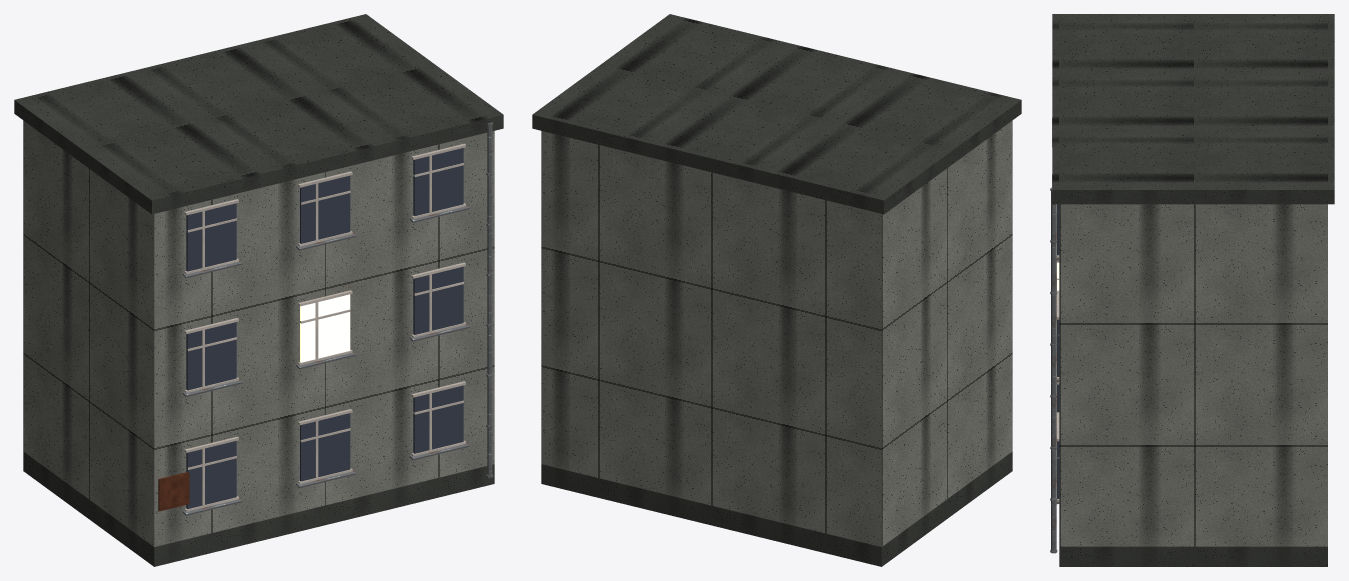
File: lullaby_window_block.glb
The picture shows the model from 3 angles, left to right: view 1: azimuth 30°, elevation 25°; view 2: azimuth 150°, elevation 25°; view 3: azimuth 270°, elevation 25°; orthographic projection. The views are drawn at different scales.
Visible parts, largest first — view 1: lullaby_window_block; view 2: lullaby_window_block; view 3: lullaby_window_block.
Part boxes in pixels (box(x1,y1,x2,y2)): lullaby_window_block: box(14, 14, 503, 566); lullaby_window_block: box(532, 14, 1021, 566); lullaby_window_block: box(1050, 14, 1334, 566).
Size of what is drawn, in the model's own units: 9.3 by 9.35 by 6.35.
Materials: 11 (8 with a texture image).
